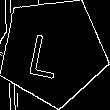L_N: (33, 24, 73, 79)
